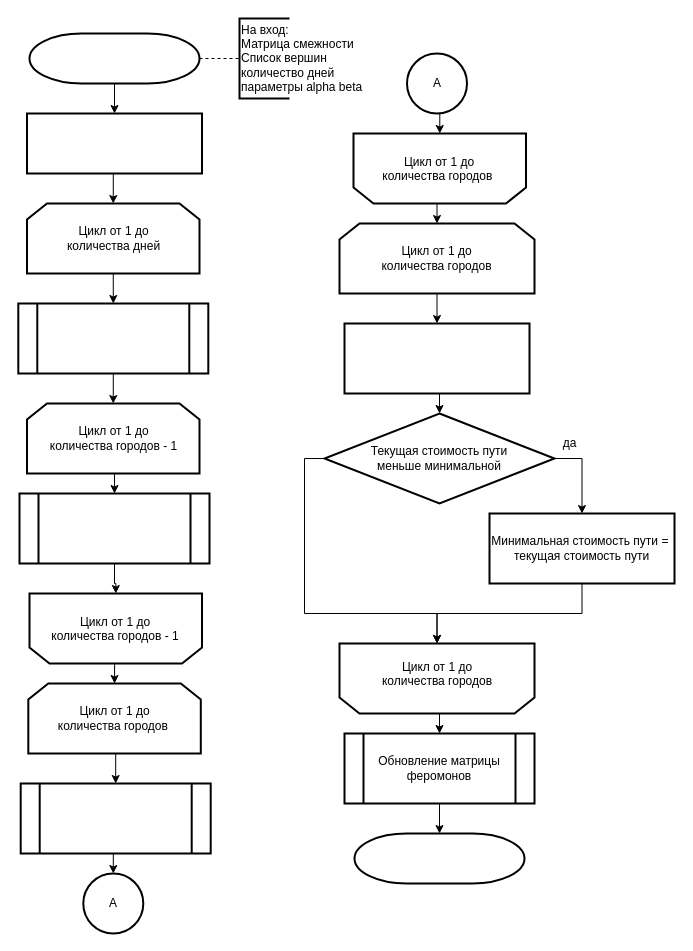
Image size: 693x951. Some labels were removed from this diagram. Here are the shapes that lost their labels. From the top down, the box of each, then its label:
(28, 32, 200, 84): Начало
(26, 112, 202, 174): Инициализация среды (необходимых параметров)
(17, 302, 209, 374): Вызов подпрограммы генерирования списка муравьев
(343, 322, 530, 394): Инициал. текущей стоимости пути стоимостью пути для i вершины
(18, 492, 210, 564): Вызов подпрограммы выбора муравьем следующего города
(19, 782, 211, 854): Добавление последнего города в путь каждого муравья
(353, 832, 525, 884): Конец
